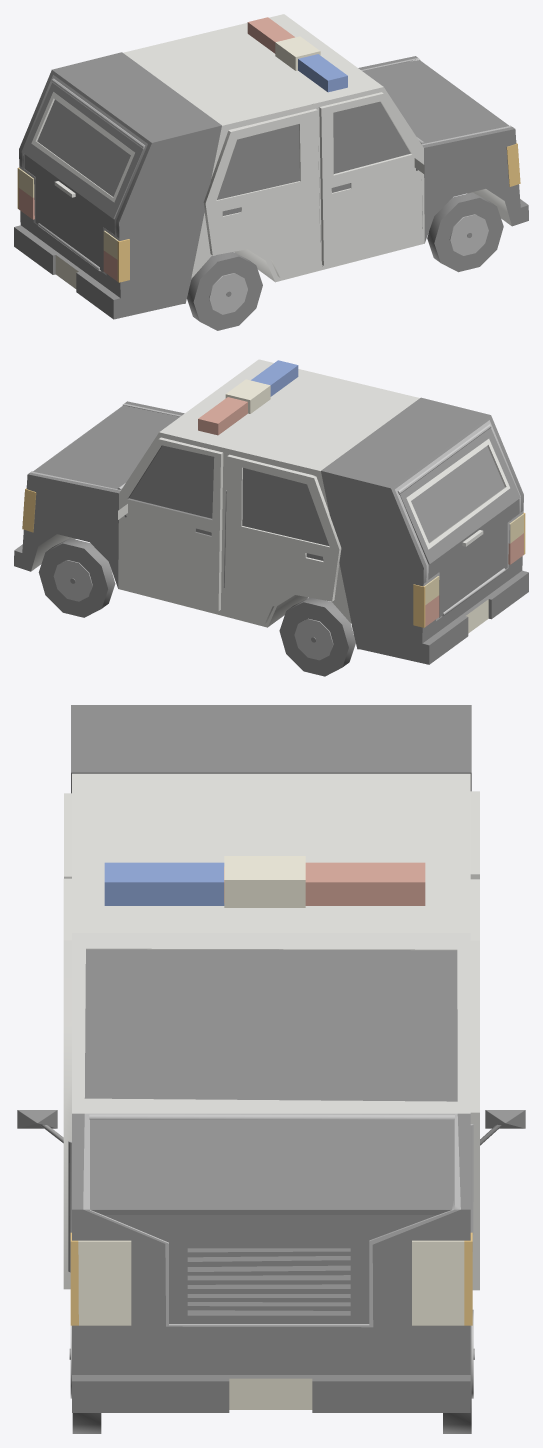
Rendered from kar22.fbx.
The picture shows the model from 3 angles, top to bottom: view 1: azimuth 30°, elevation 25°; view 2: azimuth 150°, elevation 25°; view 3: azimuth 270°, elevation 25°; orthographic projection. The views are drawn at different scales.
Parts seen in each view (by area): view 1: Boole_2, Boole_3, Cylinder_3, Cylinder_1, Cylinder_4, Boole, Boole_1, Cylinder_6, Cylinder_9; view 2: Boole_2, Boole_3, Cylinder, Cylinder_5, Cylinder_4, Boole, Boole_1, Cylinder_7, Cylinder_8; view 3: Boole_2, Boole, Boole_3, Cylinder_5, Cylinder_1, Cylinder_7, Cylinder.
Part boxes in pixels (<box>): Boole_2: <box>14,14,528,319</box>; Boole_3: <box>19,52,221,303</box>; Cylinder_3: <box>203,108,320,277</box>; Cylinder_1: <box>319,92,424,265</box>; Cylinder_4: <box>22,78,145,219</box>; Boole: <box>362,60,509,144</box>; Boole_1: <box>24,154,114,272</box>; Cylinder_6: <box>427,192,503,272</box>; Cylinder_9: <box>187,252,262,330</box>; Boole_2: <box>14,359,528,664</box>; Boole_3: <box>321,397,523,649</box>; Cylinder: <box>223,454,341,623</box>; Cylinder_5: <box>118,437,223,611</box>; Cylinder_4: <box>397,424,520,564</box>; Boole: <box>33,405,179,489</box>; Boole_1: <box>428,499,518,617</box>; Cylinder_7: <box>38,538,115,617</box>; Cylinder_8: <box>279,597,355,676</box>; Boole_2: <box>70,773,472,1412</box>; Boole: <box>89,1114,454,1323</box>; Boole_3: <box>71,705,471,793</box>; Cylinder_5: <box>470,879,525,1290</box>; Cylinder_1: <box>17,878,71,1289</box>; Cylinder_7: <box>443,1309,474,1433</box>; Cylinder: <box>470,791,479,879</box>.
Bounding box in the file's own units: 457 × 229 × 242.
